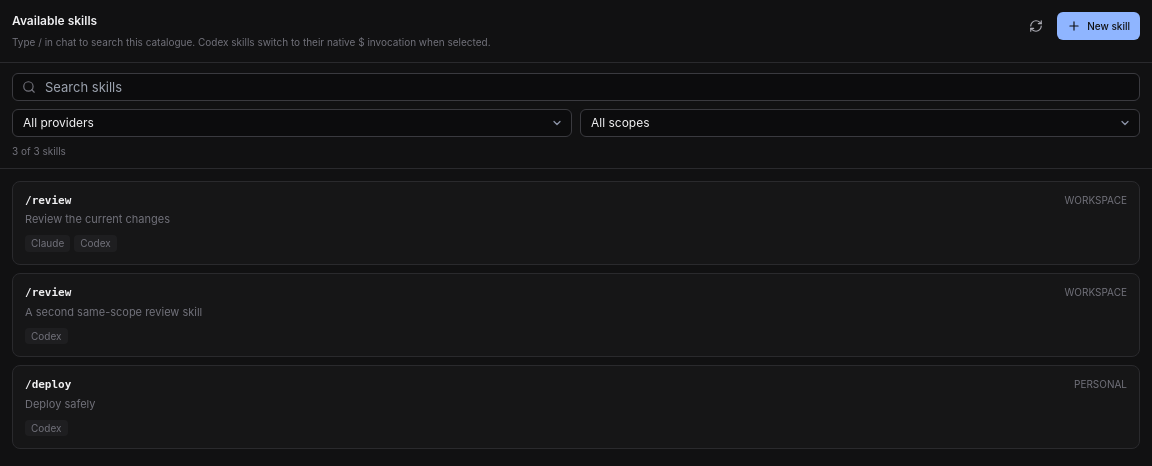
Test: SkillsPanel › shows and clears the no-results filter state
Expected: the element with test id "skill-review-workspace-0" is shown, [12,180,1140,265]
Type "does-not-exist" into the search field labelled "Search skills" at (576, 87), box [12,73,1140,101]
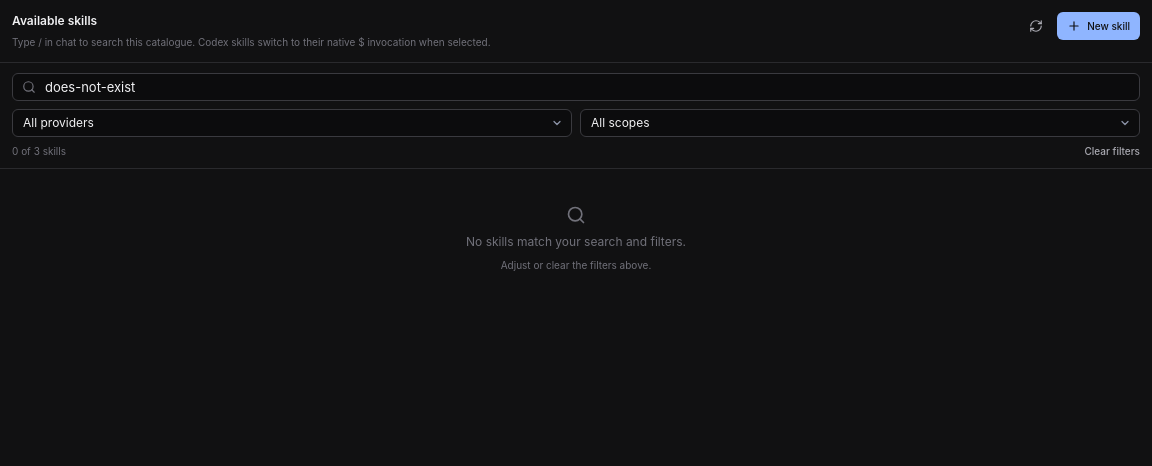
Result: the text "No skills match your search and filters." is shown at [466,232,686,250]
Click the button with test id "skills-clear-filters" at (1112, 151), box [1084,145,1140,158]
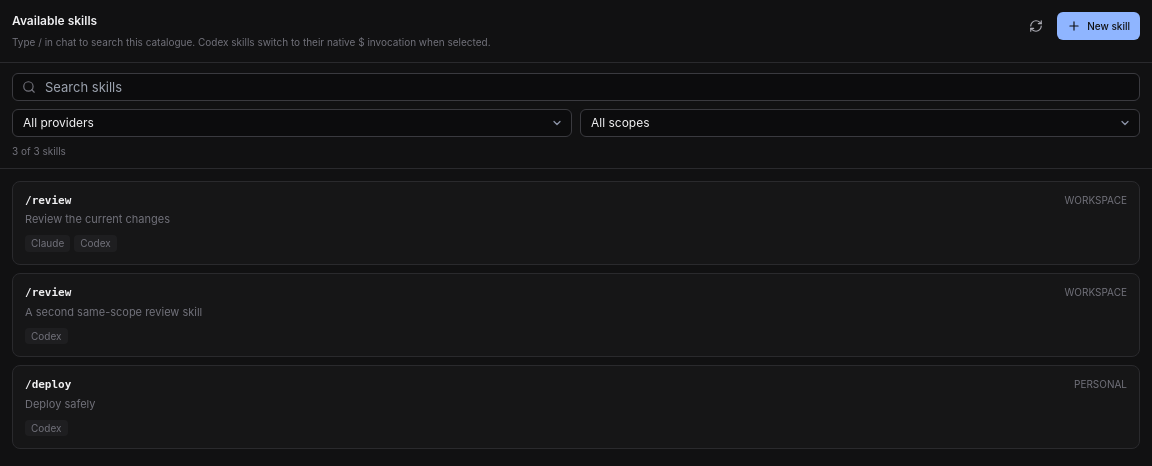
Result: the text with test id "skills-result-count" reads "3 of 3 skills" at [12,145,66,158]
Result: the element with test id "skill-deploy-user-0" is shown at [12,365,1140,449]
